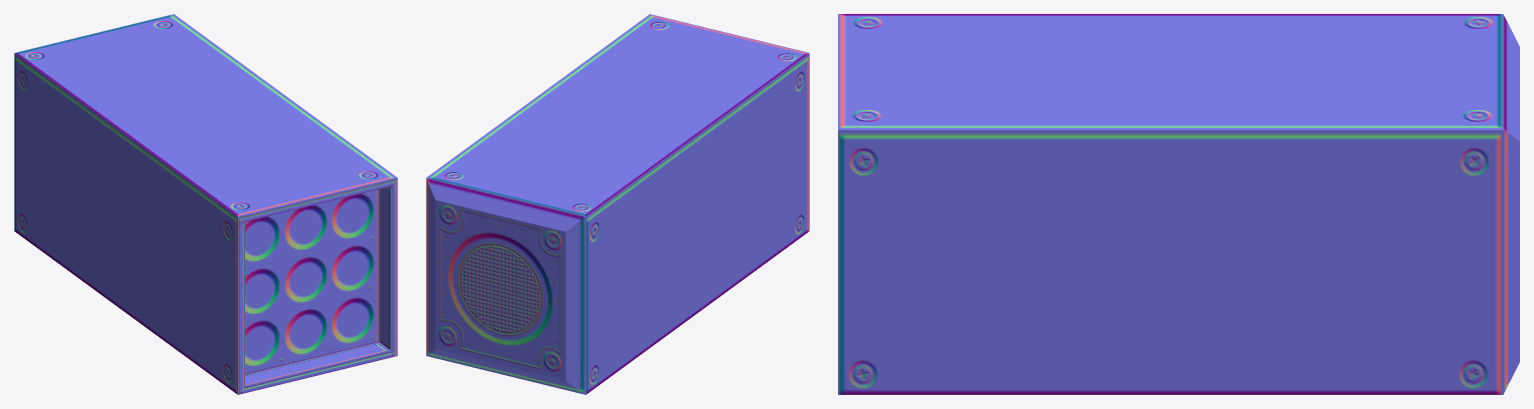
File: RocketLauncher_Body_NoRockets.FBX
3 views of the same model, side by side, from view 1: azimuth 30°, elevation 25°; view 2: azimuth 150°, elevation 25°; view 3: azimuth 270°, elevation 25° (orthographic). The views are drawn at different scales.
Visible parts, largest first — view 1: Box039; view 2: Box039; view 3: Box039.
Part boxes in pixels (x1,y1,x2,y2): Box039: (14,14,397,394); Box039: (426,14,809,394); Box039: (838,14,1519,394).
Bounding box in the file's own units: 29.92 × 31.92 × 74.39.
